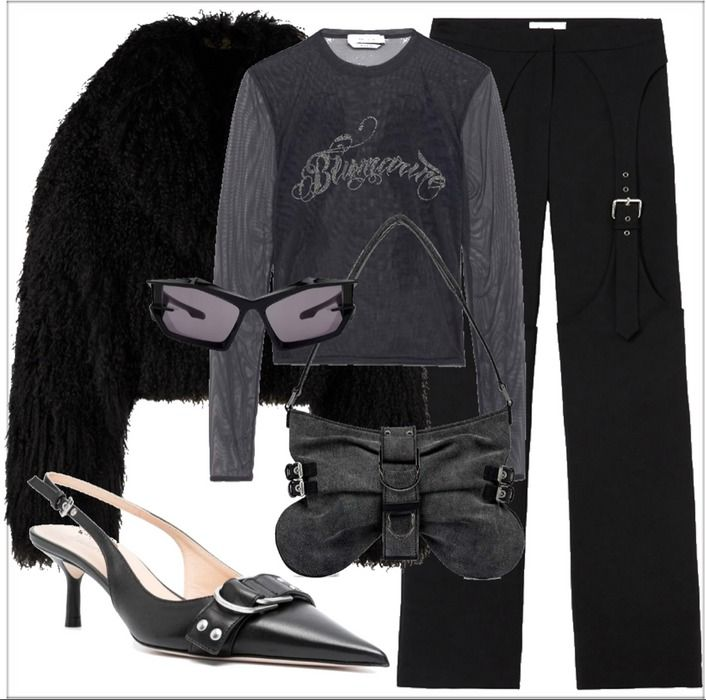аксесуары: (144, 274, 359, 353)
верхняя одежда: (7, 1, 302, 468)
кофта: (214, 20, 531, 370)
туфли: (479, 14, 706, 691), (24, 466, 394, 672)
